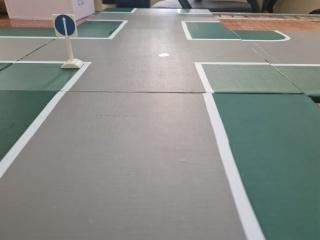straight: (51, 13, 78, 38)
